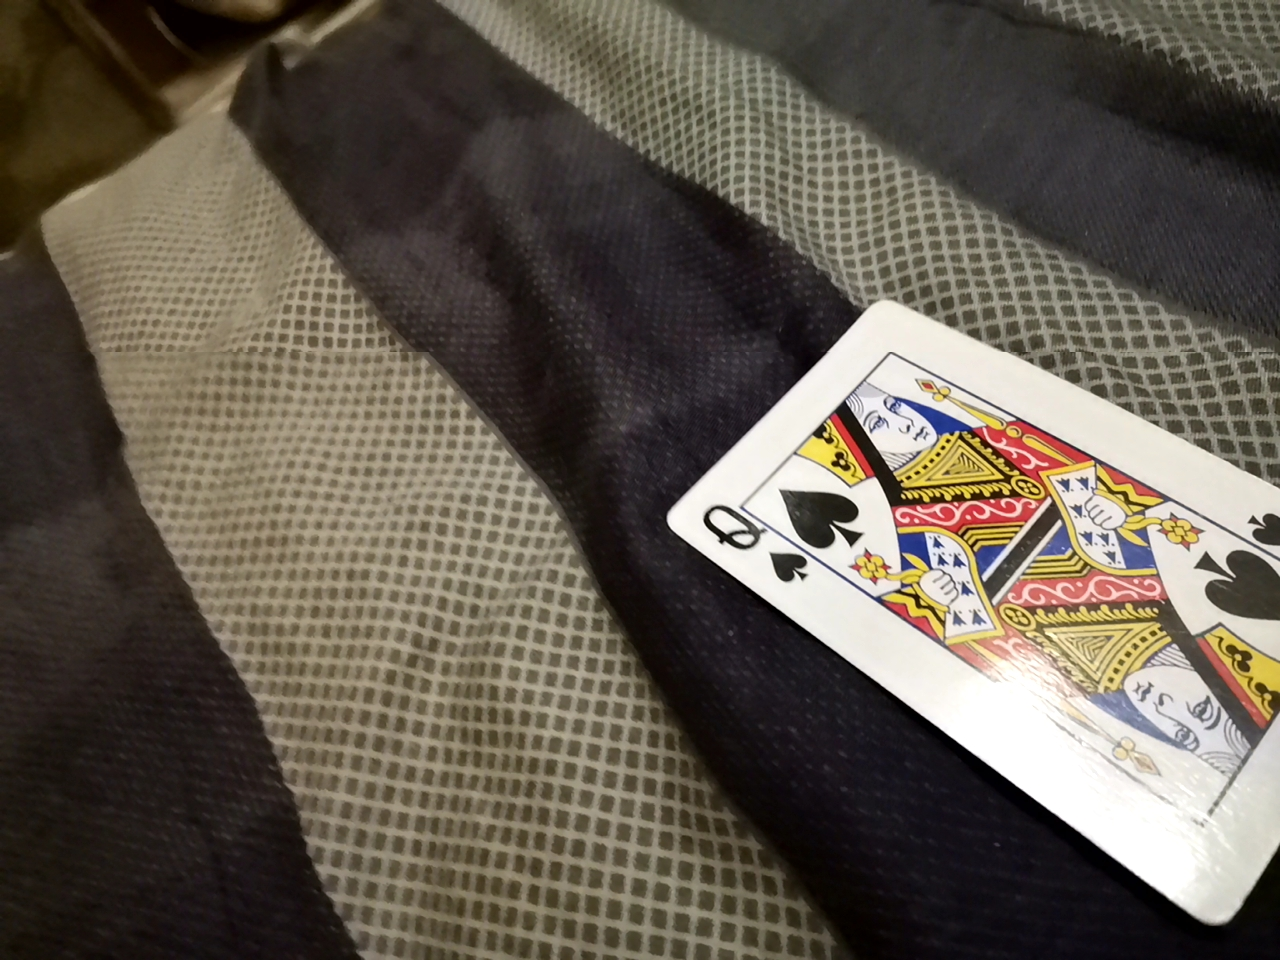ht q: (653, 291, 1269, 884)
